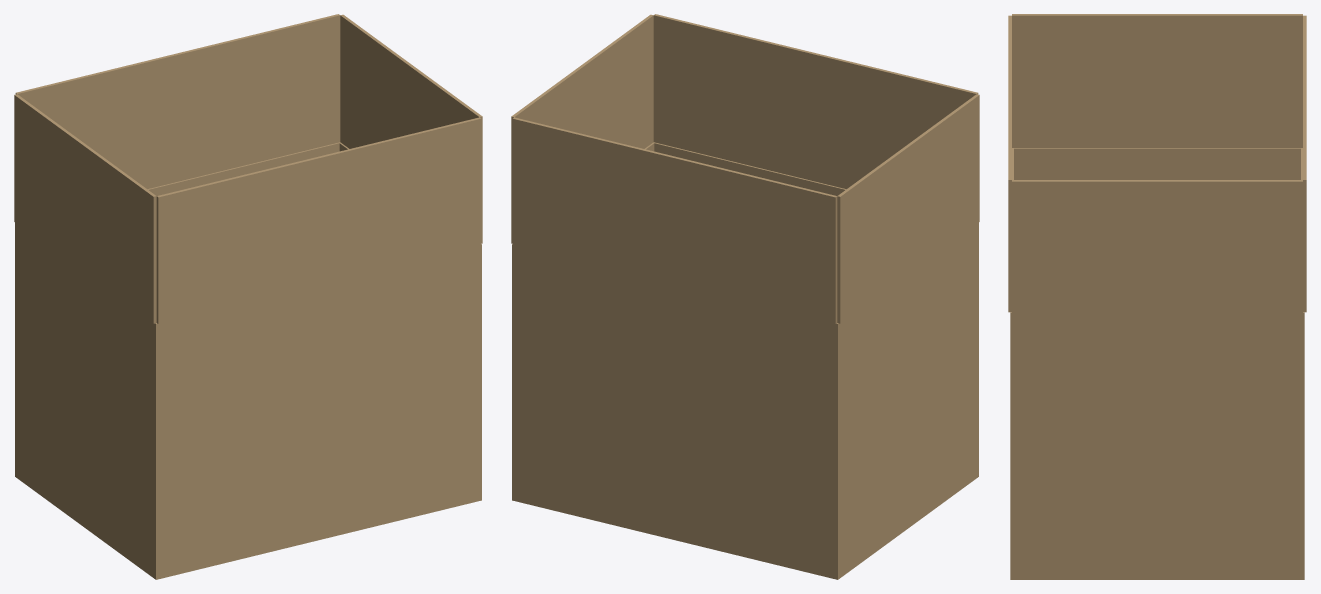
The model's file is paper.glb.
The picture shows the model from 3 angles, left to right: view 1: azimuth 30°, elevation 25°; view 2: azimuth 150°, elevation 25°; view 3: azimuth 270°, elevation 25°; orthographic projection. The views are drawn at different scales.
Parts seen in each view (by area): view 1: LongWall_1, UprightMajorFlap_1, EndWall_-1, UprightMajorFlap_-1, UprightMinorFlap_-1, UprightMinorFlap_1, LongWall_-1, CartonBottom; view 2: LongWall_-1, UprightMajorFlap_-1, EndWall_-1, UprightMajorFlap_1, UprightMinorFlap_-1, UprightMinorFlap_1, LongWall_1, CartonBottom; view 3: EndWall_1, UprightMinorFlap_-1, UprightMinorFlap_1, EndWall_-1, UprightMajorFlap_-1, UprightMajorFlap_1, CartonBottom, LongWall_-1, LongWall_1.
Boxes of the visible parts, box(x1,y1,x2,y2) form: LongWall_1: box(154, 244, 481, 576); UprightMajorFlap_1: box(156, 117, 481, 324); EndWall_-1: box(16, 224, 154, 574); UprightMajorFlap_-1: box(15, 14, 340, 189); UprightMinorFlap_-1: box(14, 94, 156, 323); UprightMinorFlap_1: box(340, 14, 482, 243); LongWall_-1: box(15, 142, 340, 474); CartonBottom: box(15, 474, 481, 579); LongWall_-1: box(512, 244, 839, 576); UprightMajorFlap_-1: box(512, 117, 837, 324); EndWall_-1: box(839, 224, 977, 574); UprightMajorFlap_1: box(653, 14, 978, 189); UprightMinorFlap_-1: box(837, 94, 979, 323); UprightMinorFlap_1: box(511, 14, 653, 243); LongWall_1: box(653, 142, 978, 474); CartonBottom: box(512, 474, 978, 579); EndWall_1: box(1014, 314, 1300, 576); UprightMinorFlap_-1: box(1012, 14, 1302, 147); UprightMinorFlap_1: box(1012, 180, 1302, 313); EndWall_-1: box(1014, 148, 1300, 179); UprightMajorFlap_-1: box(1303, 15, 1306, 312); UprightMajorFlap_1: box(1008, 15, 1011, 312); CartonBottom: box(1010, 576, 1304, 579); LongWall_-1: box(1301, 148, 1304, 576); LongWall_1: box(1010, 148, 1013, 576).
Size of the model in its own units: 0.323 by 0.359 by 0.243.
